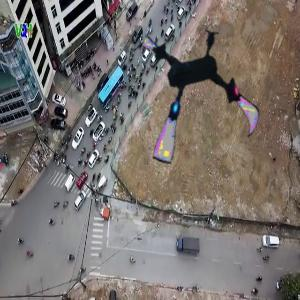drone: (123, 21, 274, 172)
